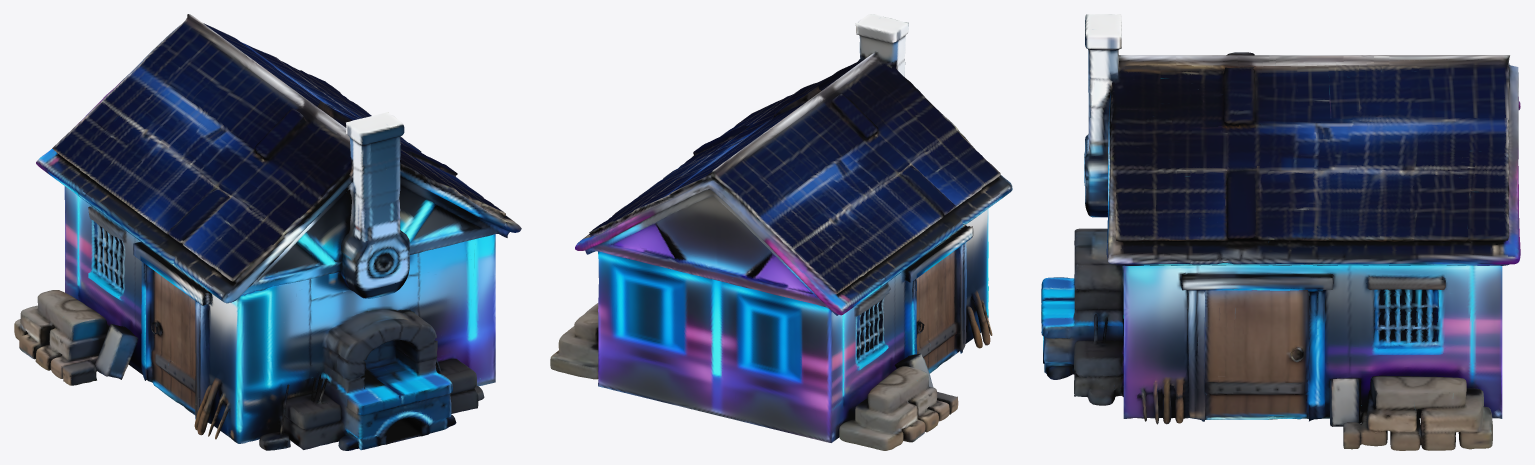
File: build 1.fbx
The picture shows the model from 3 angles, left to right: view 1: azimuth 30°, elevation 25°; view 2: azimuth 150°, elevation 25°; view 3: azimuth 270°, elevation 25°; orthographic projection. The views are drawn at different scales.
Visible parts, largest first — view 1: model; view 2: model; view 3: model.
Part boxes in pixels (left/top/right/bottom): model: left=14, top=14, right=521, bottom=450; model: left=550, top=14, right=1012, bottom=450; model: left=1041, top=14, right=1520, bottom=450.
Bounding box in the file's own units: 179 × 131 × 175.
